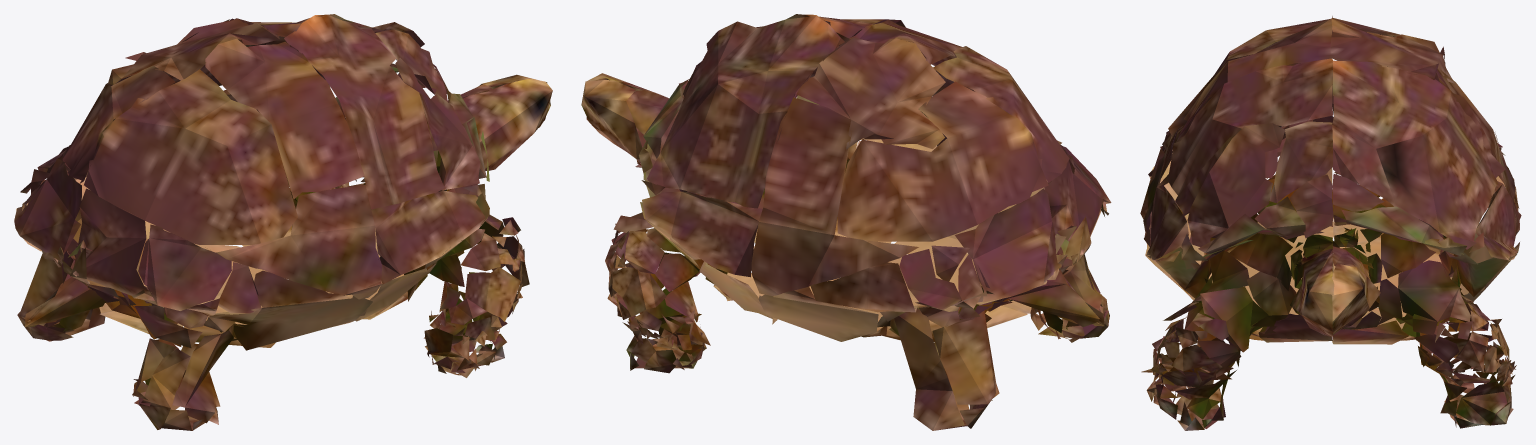
File: loc_sy_tortoise_ai.glb
3 views of the same model, side by side, from view 1: azimuth 30°, elevation 25°; view 2: azimuth 150°, elevation 25°; view 3: azimuth 270°, elevation 25° (orthographic).
Parts seen in each view (by area): view 1: tripo_node_b6349ff8-743b-4922-95f5-7e1d2b8147da; view 2: tripo_node_b6349ff8-743b-4922-95f5-7e1d2b8147da; view 3: tripo_node_b6349ff8-743b-4922-95f5-7e1d2b8147da.
Boxes of the visible parts, left/top/right/bottom form: tripo_node_b6349ff8-743b-4922-95f5-7e1d2b8147da: left=14, top=14, right=552, bottom=430; tripo_node_b6349ff8-743b-4922-95f5-7e1d2b8147da: left=581, top=14, right=1111, bottom=430; tripo_node_b6349ff8-743b-4922-95f5-7e1d2b8147da: left=1140, top=16, right=1521, bottom=430.
Size of the model in its own units: 1.54 by 0.91 by 0.9766.
1 material, 1 textured.
